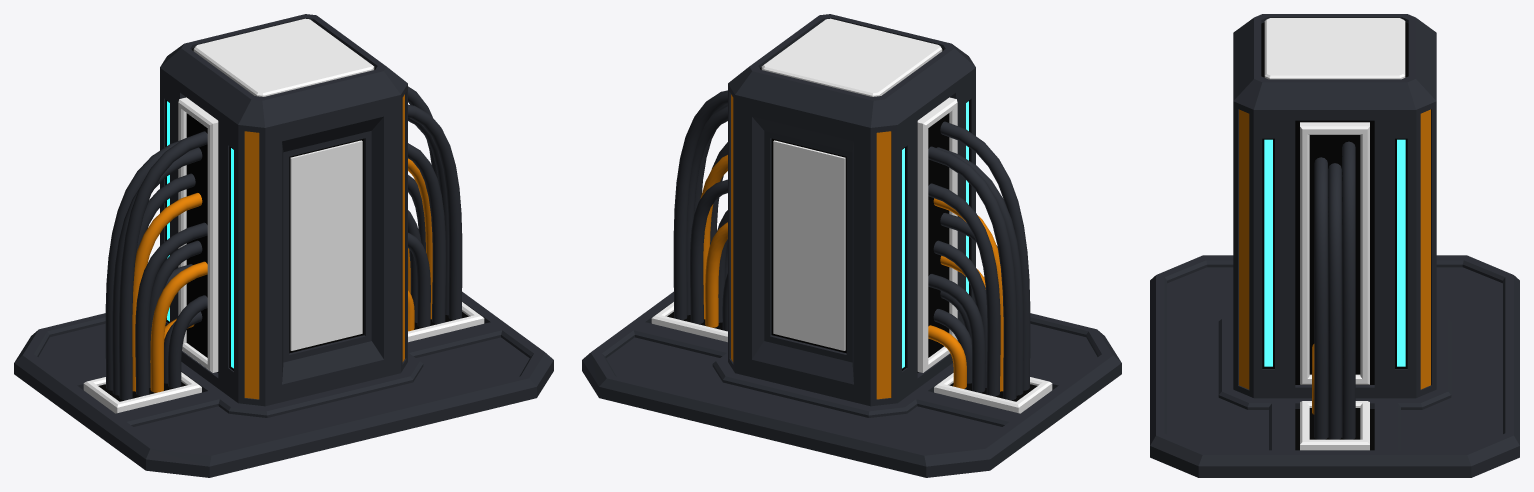
The model's file is SM_Power_Distribution_Block.fbx.
3 renders of one model, left to right at view 1: azimuth 30°, elevation 25°; view 2: azimuth 150°, elevation 25°; view 3: azimuth 270°, elevation 25°, orthographic. The views are drawn at different scales.
Parts seen in each view (by area): view 1: SM_Power_Distribution_Block; view 2: SM_Power_Distribution_Block; view 3: SM_Power_Distribution_Block.
Boxes of the visible parts, x1,y1,x2,y2 form: SM_Power_Distribution_Block: (14,14,553,477); SM_Power_Distribution_Block: (582,14,1121,477); SM_Power_Distribution_Block: (1150,14,1519,477).
Bounding box in the file's own units: 21.12 × 15.67 × 16.
